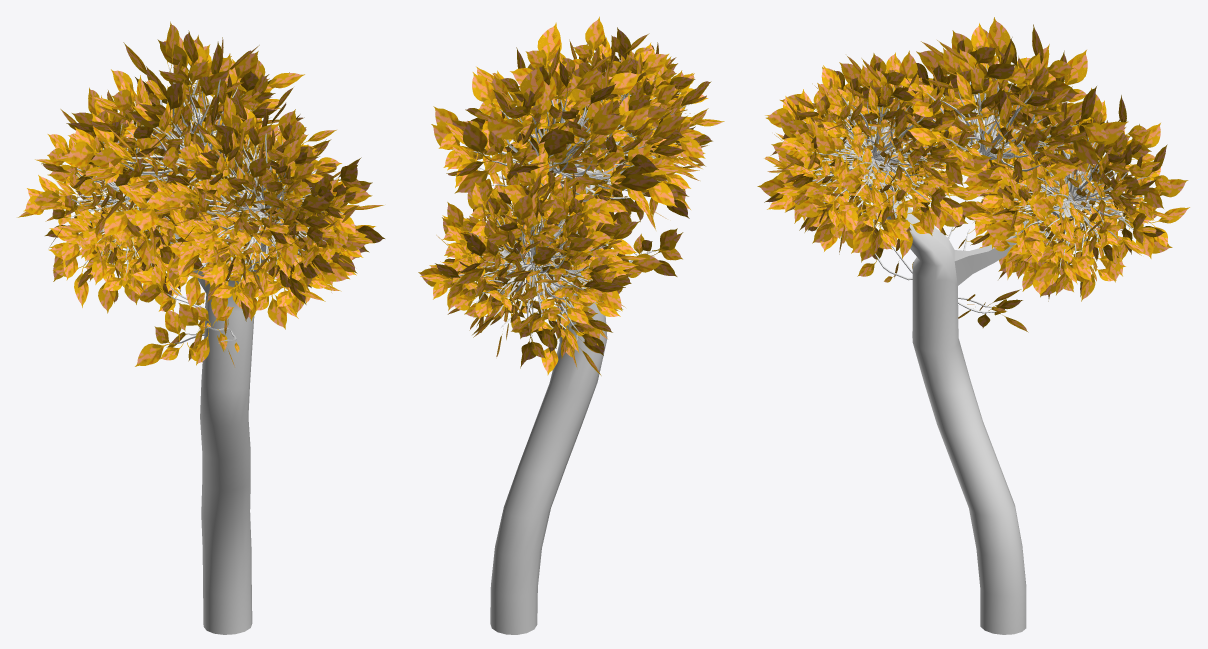
File: yellowtree11.fbx
The picture shows the model from 3 angles, left to right: view 1: azimuth 30°, elevation 25°; view 2: azimuth 150°, elevation 25°; view 3: azimuth 270°, elevation 25°; orthographic projection. The views are drawn at different scales.
Visible parts, largest first — view 1: pCylinder1072; view 2: pCylinder1072; view 3: pCylinder1072.
Part boxes in pixels (bbox=[...]): pCylinder1072: bbox=[17, 21, 384, 634]; pCylinder1072: bbox=[418, 16, 724, 634]; pCylinder1072: bbox=[757, 17, 1189, 634].
Size of the model in its own units: 22.8 by 55.02 by 36.9.
